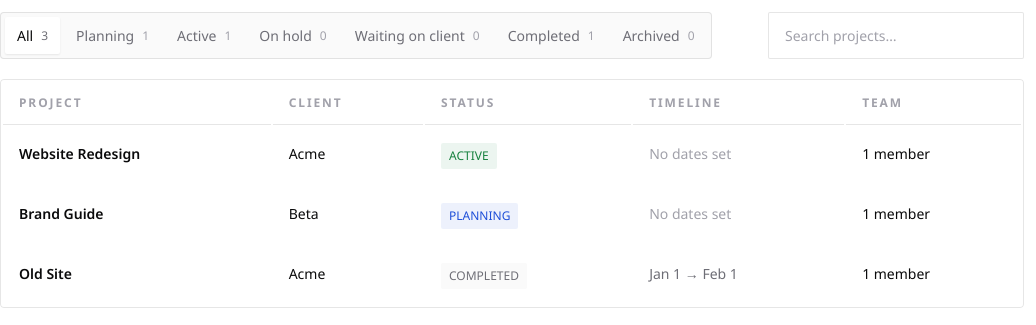
ProjectsTable › shows a no-match state when the filter matches nothing
Type "zzz" into the search field labelled "Search projects" at (896, 36), box [768, 12, 1024, 59]
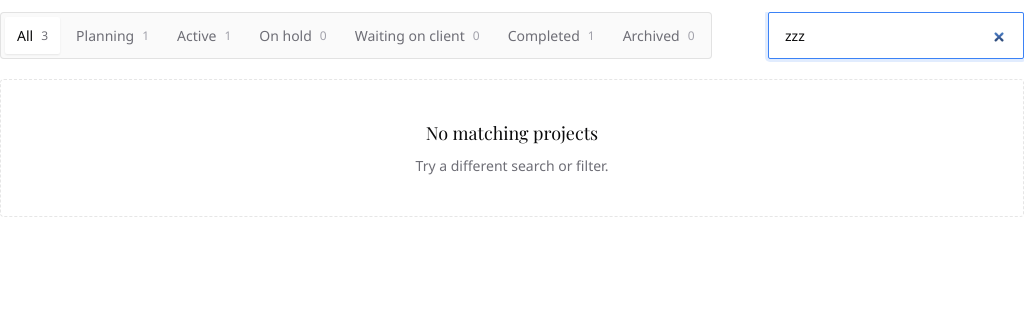
Expected: the text "No matching projects" is shown, [426, 121, 598, 145]
